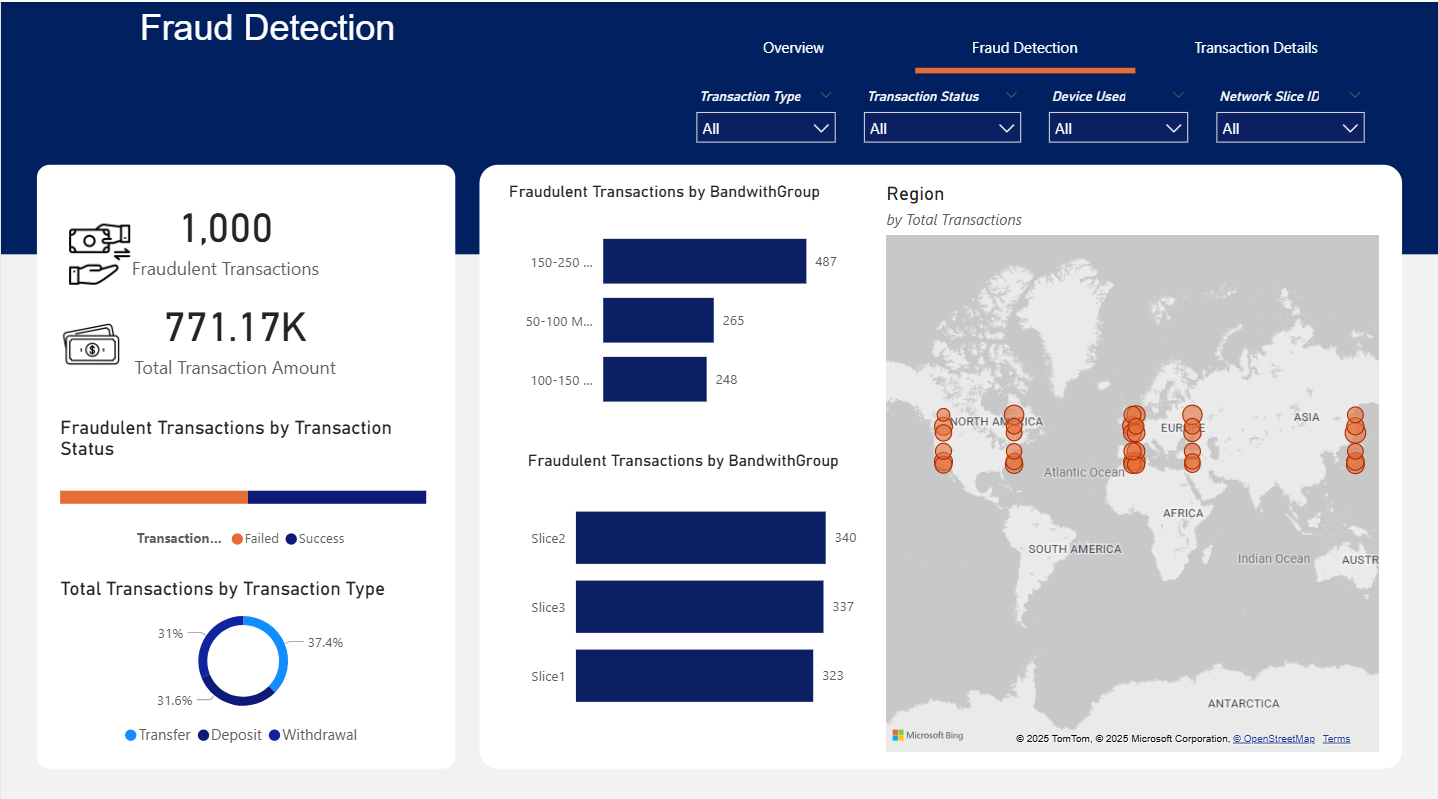

This screenshot's page, from the dashboard's own definition file:
{"tool":"powerbi","page":{"name":"Fraud Detection","canvas":[1280,720],"ordinal":1},"visuals":[{"type":"group","id":"g1","title":"Group 1","box":[48,160,304,96],"z":0},{"type":"card","fields":{"Values":["transaction_data.Total Transactions"]},"box":[48,160,304,96],"z":0,"group":"g1"},{"type":"card","fields":{"Values":["transaction_data.Total Transaction Amount"]},"box":[64,240,288,112],"z":0,"group":"g2"},{"type":"group","id":"g2","title":"Group 2","box":[32,240,320,128],"z":1},{"type":"barChart","title":"Fraudulent Transactions by Transaction Status","fields":{"Y":["transaction_data.Total Transactions"],"Series":["transaction_data.Transaction Status"]},"box":[48,368,336,128],"z":3},{"type":"donutChart","fields":{"Y":["transaction_data.Total Transactions"],"Category":["transaction_data.Transaction Type"]},"box":[48,512,336,160],"z":5},{"type":"map","title":"Region","fields":{"Size":["transaction_data.Total Transactions"],"Y":["transaction_data.Latitude"],"X":["transaction_data.Longitude"]},"box":[784,160,448,512],"z":6},{"type":"slicer","fields":{"Values":["transaction_data.Network Slice ID"]},"box":[1072.5,72.8,152,64],"z":7},{"type":"slicer","fields":{"Values":["transaction_data.Device Used"]},"box":[923.2,72.8,144,64],"z":8},{"type":"slicer","fields":{"Values":["transaction_data.Transaction Type"]},"box":[608.5,72.8,144,64],"z":9},{"type":"slicer","fields":{"Values":["transaction_data.Transaction Status"]},"box":[757.8,72.8,160,64],"z":10},{"type":"textbox","box":[0,0,448,48],"z":11},{"type":"barChart","title":"Fraudulent Transactions by BandwithGroup","fields":{"Y":["transaction_data.Total Transactions"],"Category":["transaction_data.BandwithGroup"]},"box":[448,160,304,224],"z":12},{"type":"barChart","title":"Fraudulent Transactions by BandwithGroup","fields":{"Y":["transaction_data.Total Transactions"],"Category":["transaction_data.Network Slice ID"]},"box":[464,400,304,256],"z":13},{"type":"pageNavigator","box":[608,16,608,48],"z":14},{"type":"image","box":[48,192,80,64],"z":1000,"group":"g1"},{"type":"image","box":[32,272,96,64],"z":2000,"group":"g2"}]}

Visuals, with their boxes in screenshot pixels (x1, y1, x2, y2), scaled from the page's 1280x720 canvas onto the 1438x799 screenshot:
"Group 1" group: BBox(54, 178, 395, 284)
card - transaction_data.Total Transactions: BBox(54, 178, 395, 284)
card - transaction_data.Total Transaction Amount: BBox(72, 266, 395, 391)
"Group 2" group: BBox(36, 266, 395, 408)
"Fraudulent Transactions by Transaction Status" barChart: BBox(54, 408, 431, 550)
donutChart - transaction_data.Total Transactions x transaction_data.Transaction Type: BBox(54, 568, 431, 746)
"Region" map: BBox(881, 178, 1384, 746)
slicer - transaction_data.Network Slice ID: BBox(1205, 81, 1376, 152)
slicer - transaction_data.Device Used: BBox(1037, 81, 1199, 152)
slicer - transaction_data.Transaction Type: BBox(684, 81, 845, 152)
slicer - transaction_data.Transaction Status: BBox(851, 81, 1031, 152)
textbox: BBox(0, 0, 503, 53)
"Fraudulent Transactions by BandwithGroup" barChart: BBox(503, 178, 845, 426)
"Fraudulent Transactions by BandwithGroup" barChart: BBox(521, 444, 863, 728)
pageNavigator: BBox(683, 18, 1366, 71)
image: BBox(54, 213, 144, 284)
image: BBox(36, 302, 144, 373)
